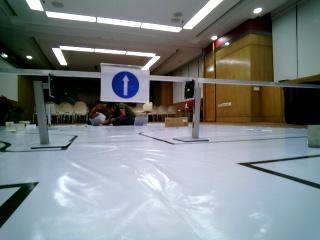straight: (96, 63, 156, 107)
